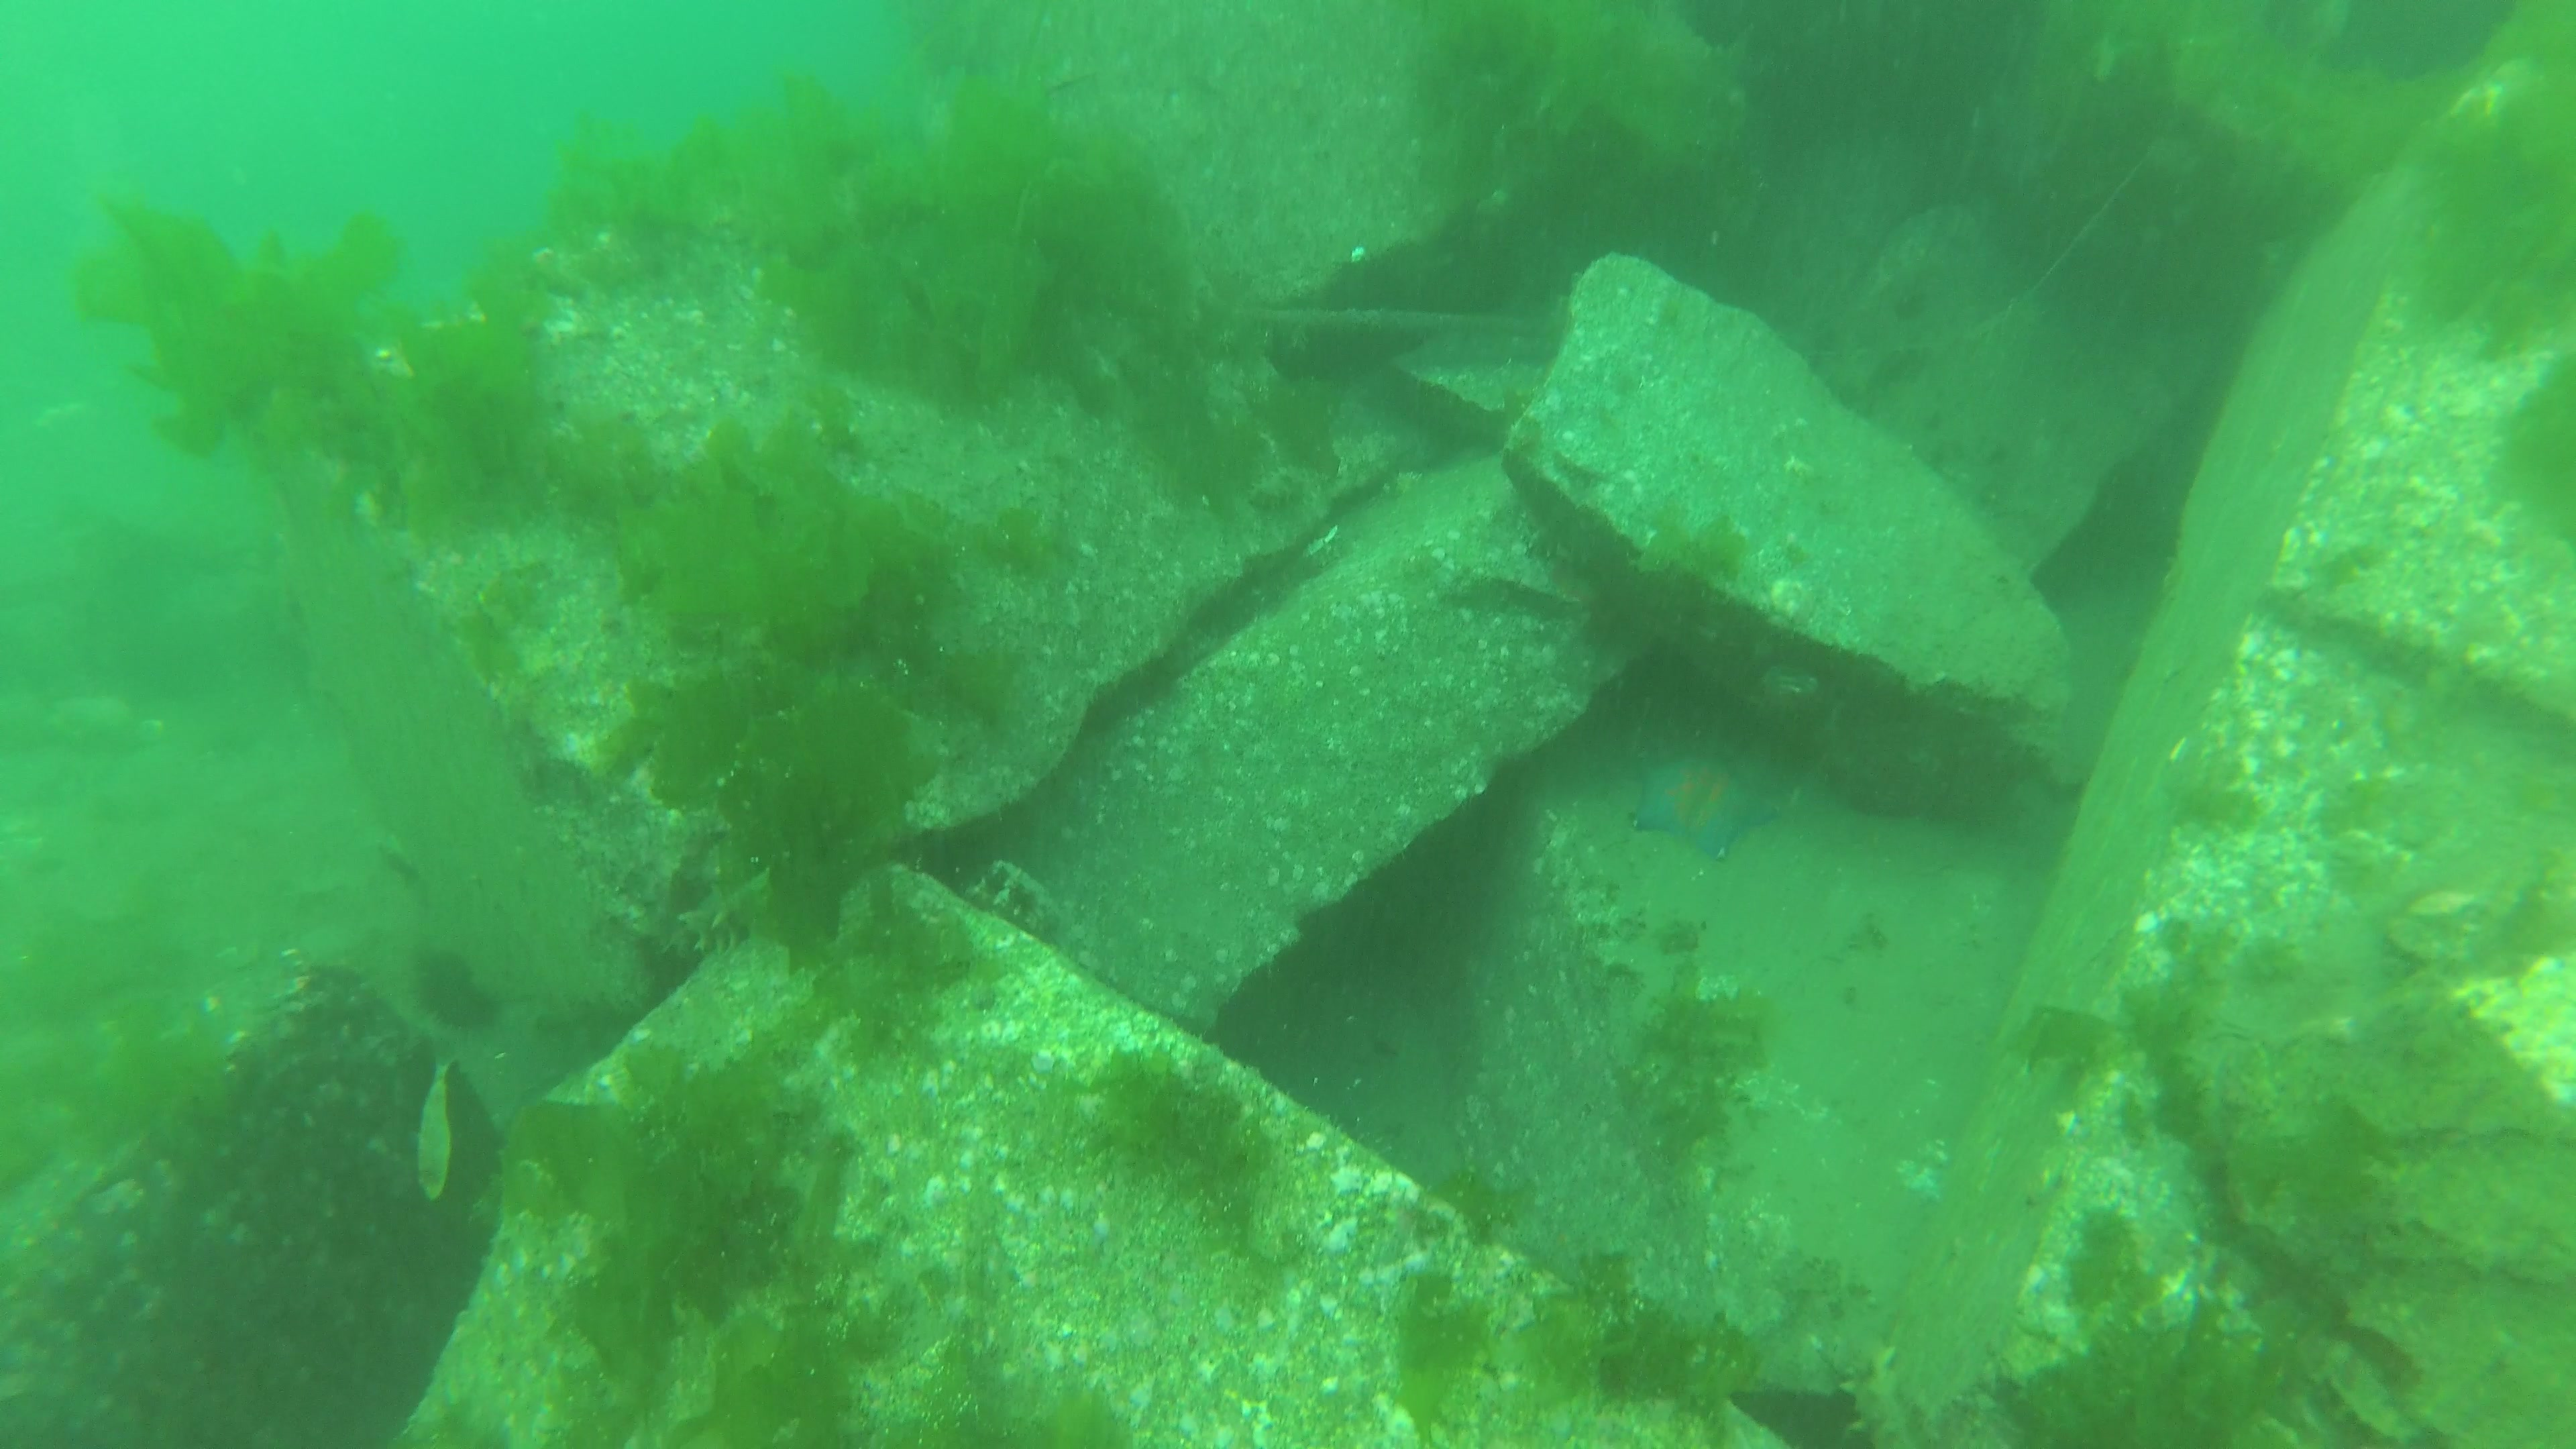echinus: (410, 947, 504, 1028)
holothurian: (1836, 1346, 1920, 1449), (681, 888, 782, 961)
starfish: (1629, 754, 1787, 865)
